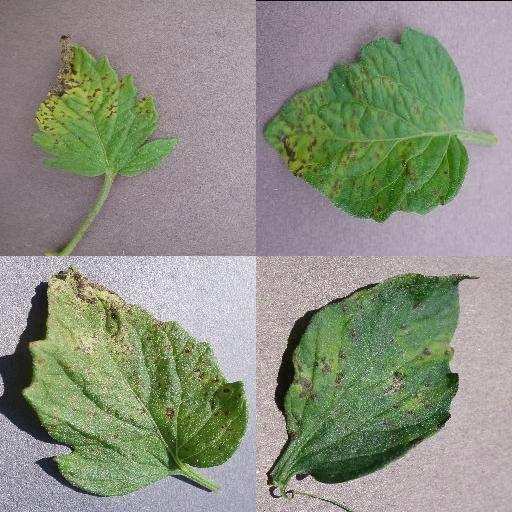Septoria: (23, 265, 247, 499), (281, 269, 479, 483), (262, 24, 470, 222), (33, 33, 178, 181)
